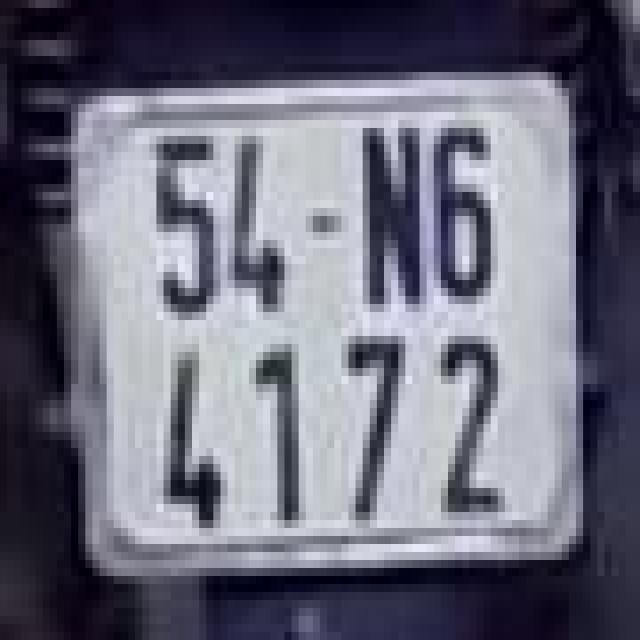1: (235, 332, 320, 532)
2: (427, 324, 512, 524)
4: (142, 344, 228, 536), (220, 120, 292, 320)
5: (139, 120, 224, 328)
6: (431, 108, 502, 316)
7: (338, 320, 416, 528)
N: (348, 120, 426, 312)
